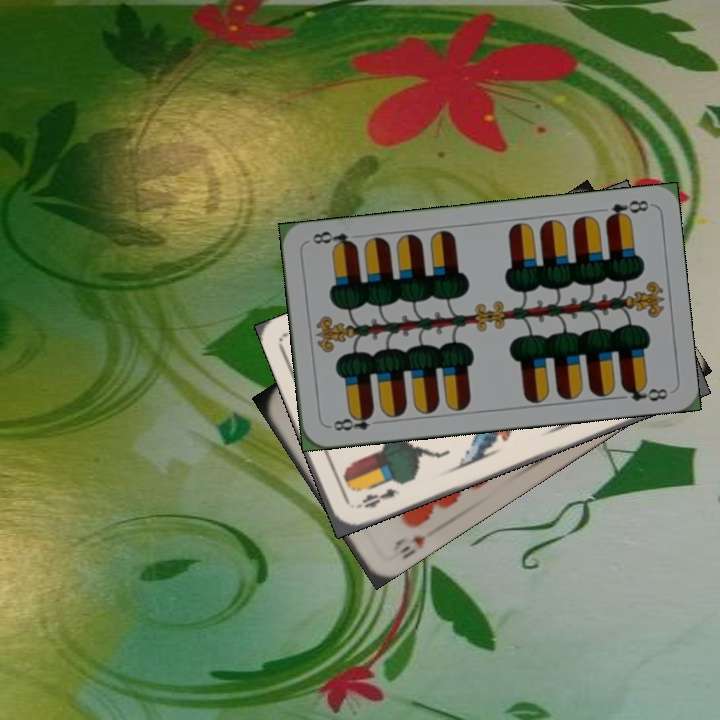E8: (325, 408, 384, 433), (602, 196, 652, 224)
EO: (351, 484, 402, 512)
H10: (388, 525, 439, 561)
